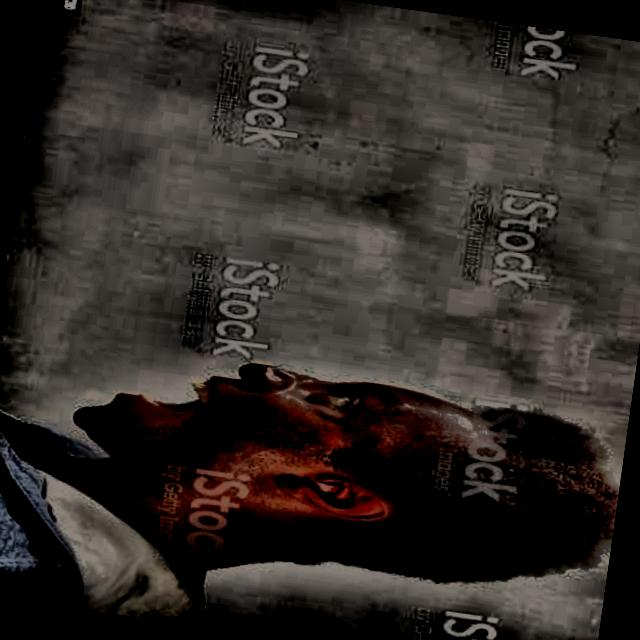happy: (43, 330, 629, 640)
